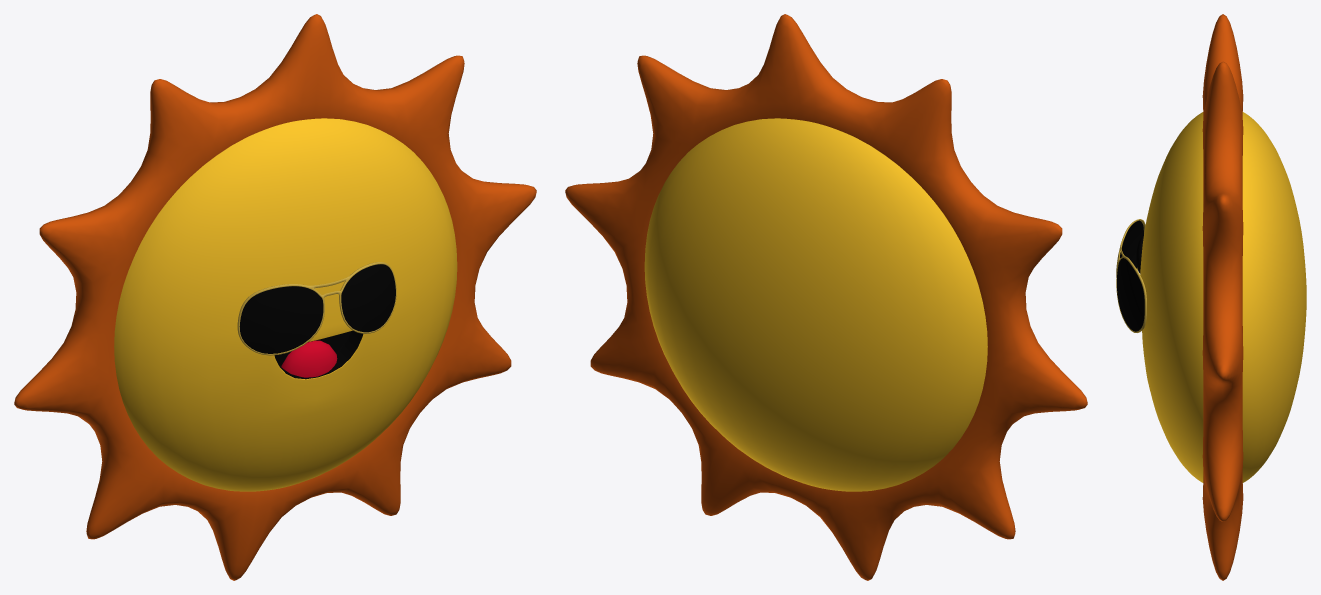
The model's file is suno.gltf.
3 renders of one model, left to right at view 1: azimuth 30°, elevation 25°; view 2: azimuth 150°, elevation 25°; view 3: azimuth 270°, elevation 25°, orthographic. The views are drawn at different scales.
Visible parts, largest first — view 1: node_id90, node_id88, node_id94, node_id82, node_id92; view 2: node_id90, node_id88; view 3: node_id90, node_id88, node_id94, node_id92.
Part boxes in pixels (<box>): node_id90: <box>114,118,457,491</box>; node_id88: <box>14,14,536,580</box>; node_id94: <box>239,264,395,353</box>; node_id82: <box>281,340,337,377</box>; node_id92: <box>237,262,396,355</box>; node_id90: <box>644,118,987,491</box>; node_id88: <box>565,14,1087,580</box>; node_id90: <box>1140,112,1306,482</box>; node_id88: <box>1202,14,1243,580</box>; node_id94: <box>1117,220,1144,331</box>; node_id92: <box>1116,219,1146,332</box>.
Size of the model in its own units: 0.512 by 0.512 by 0.174.
Materials: 7 (7 with a texture image).
